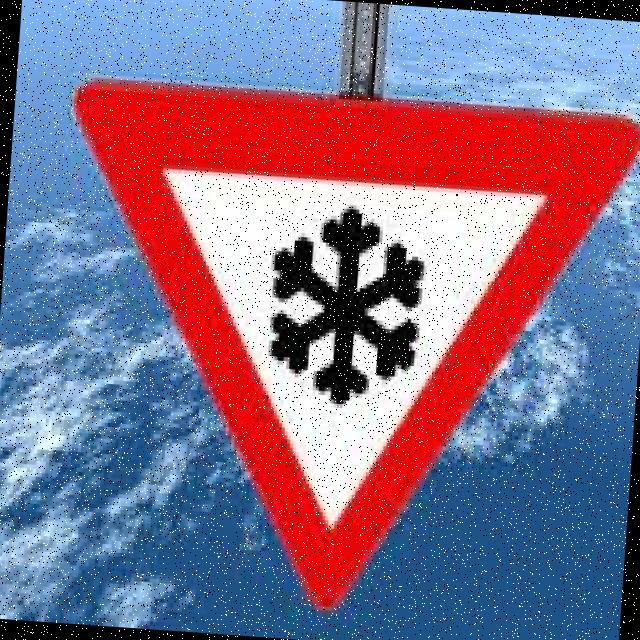snow_warning: (21, 63, 640, 640)
